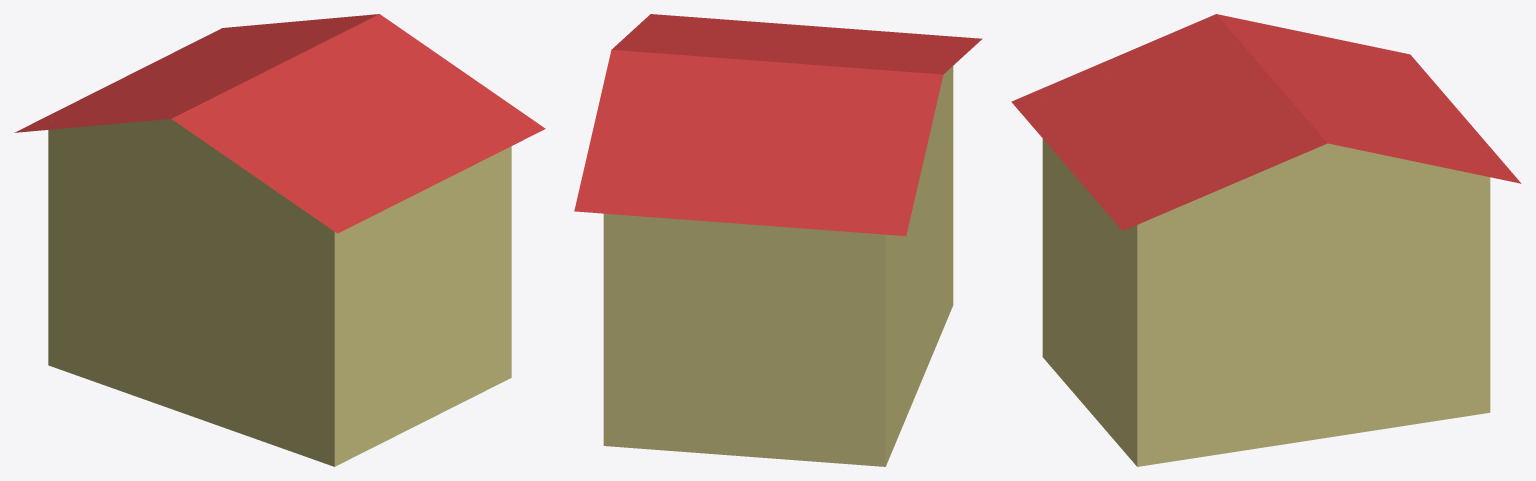
3 renders of one model, left to right at view 1: azimuth 30°, elevation 25°; view 2: azimuth 150°, elevation 25°; view 3: azimuth 270°, elevation 25°, orthographic. The views are drawn at different scales.
Bounding box in the file's own units: 9.21 × 10.41 × 6.87.
